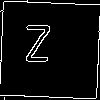Z: (24, 24, 51, 72)
